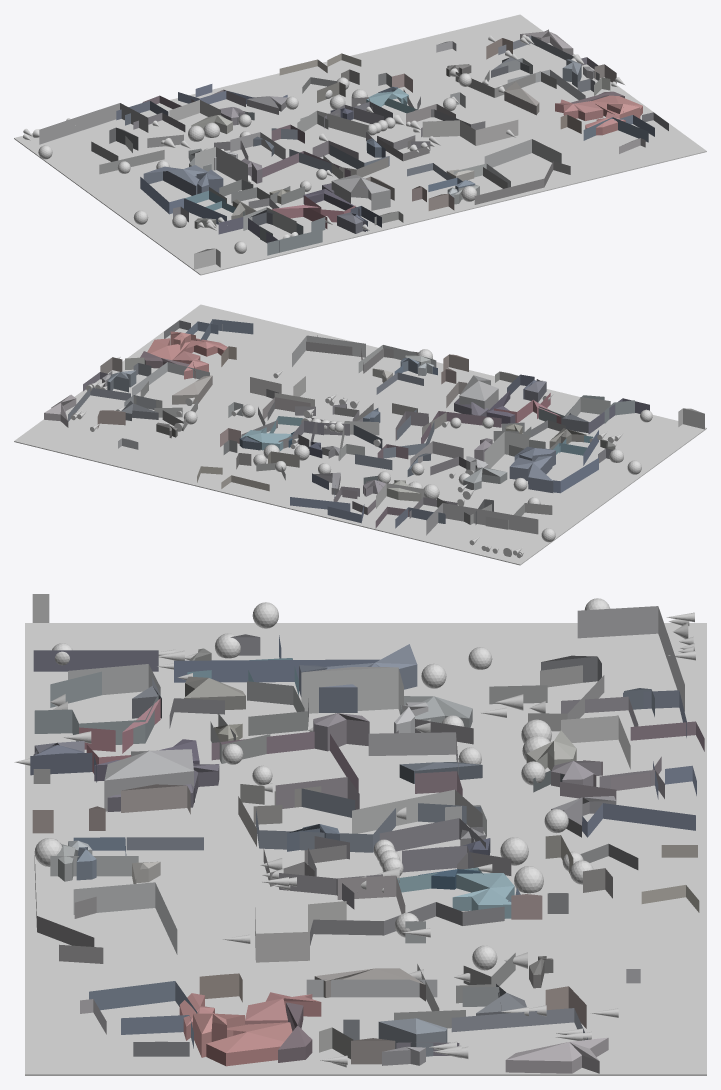
3 views of the same model, one above another, from view 1: azimuth 30°, elevation 25°; view 2: azimuth 150°, elevation 25°; view 3: azimuth 270°, elevation 25° (orthographic). The views are drawn at different scales.
Parts seen in each view (by area): view 1: Ground_Base, BLD-006, BLD-078, BLD-089, BLD-014, BLD-110, BLD-075, BLD-096, BLD-058, BLD-104, BLD-054, BLD-061 (+28 smaller); view 2: Ground_Base, BLD-006, BLD-061, BLD-058, BLD-004, BLD-089, BLD-078, BLD-054, BLD-014, BLD-110, BLD-068, BLD-096 (+25 smaller); view 3: Ground_Base, BLD-061, BLD-054, BLD-075, BLD-096, BLD-089, BLD-006, BLD-068, BLD-021, BLD-040, BLD-045, BLD-014 (+57 smaller).
Boxes of the visible parts, box(x1,y1,x2,y2) form: Ground_Base: box(14, 14, 706, 275); BLD-006: box(39, 103, 148, 144); BLD-078: box(422, 120, 518, 145); BLD-089: box(331, 174, 390, 210); BLD-014: box(91, 134, 183, 174); BLD-110: box(474, 161, 570, 204); BLD-075: box(209, 179, 304, 205); BLD-096: box(260, 217, 325, 255); BLD-058: box(143, 165, 207, 195); BLD-104: box(484, 139, 561, 167); BLD-054: box(195, 147, 247, 181); BLD-061: box(271, 128, 389, 173); Ground_Base: box(14, 304, 706, 565); BLD-006: box(426, 503, 538, 535); BLD-061: box(353, 409, 434, 469); BLD-058: box(509, 456, 553, 492); BLD-004: box(290, 473, 364, 523); BLD-089: box(459, 375, 498, 409); BLD-078: box(250, 376, 314, 406); BLD-054: box(484, 431, 528, 468); BLD-014: box(437, 497, 552, 529); BLD-110: box(306, 335, 418, 373); BLD-068: box(553, 430, 598, 493); BLD-096: box(538, 395, 634, 424); Ground_Base: box(25, 623, 706, 1075); BLD-061: box(256, 788, 481, 852); BLD-054: box(301, 667, 403, 714); BLD-075: box(210, 681, 308, 763); BLD-096: box(34, 671, 158, 744); BLD-089: box(104, 749, 193, 811); BLD-006: box(577, 606, 684, 711); BLD-068: box(174, 635, 379, 682); BLD-021: box(505, 1037, 608, 1073); BLD-040: box(206, 1022, 292, 1066); BLD-045: box(310, 902, 504, 945); BLD-014: box(489, 665, 604, 731).
Size of the model in its own units: 244 by 15.39 by 157.
